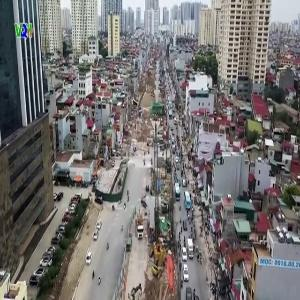drone: (133, 210, 203, 280)
